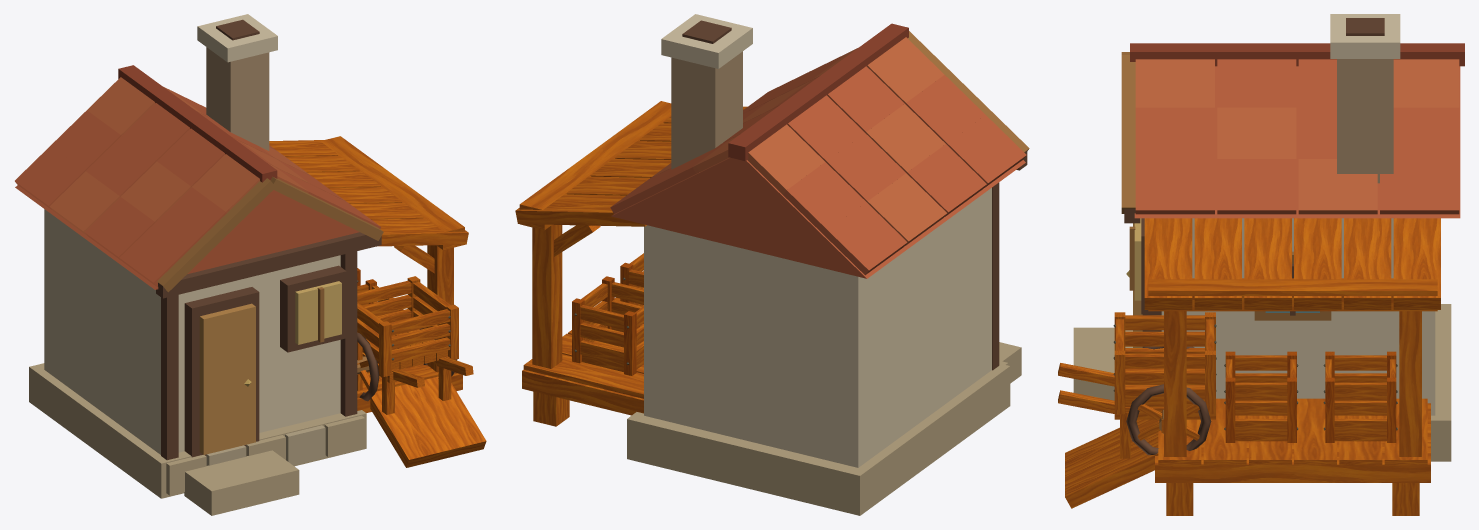
Rendered from warehouse-transport.gltf.
The picture shows the model from 3 angles, left to right: view 1: azimuth 30°, elevation 25°; view 2: azimuth 150°, elevation 25°; view 3: azimuth 270°, elevation 25°; orthographic projection. The views are drawn at different scales.
Visible parts, largest first — view 1: warehouse-transport; view 2: warehouse-transport; view 3: warehouse-transport.
Part boxes in pixels (box(x1,y1,x2,y2)): warehouse-transport: box(15, 14, 486, 515); warehouse-transport: box(515, 14, 1029, 515); warehouse-transport: box(1058, 14, 1464, 515).
Bounding box in the file's own units: 1.9 × 2.03 × 1.8.
2 materials, 1 textured.
